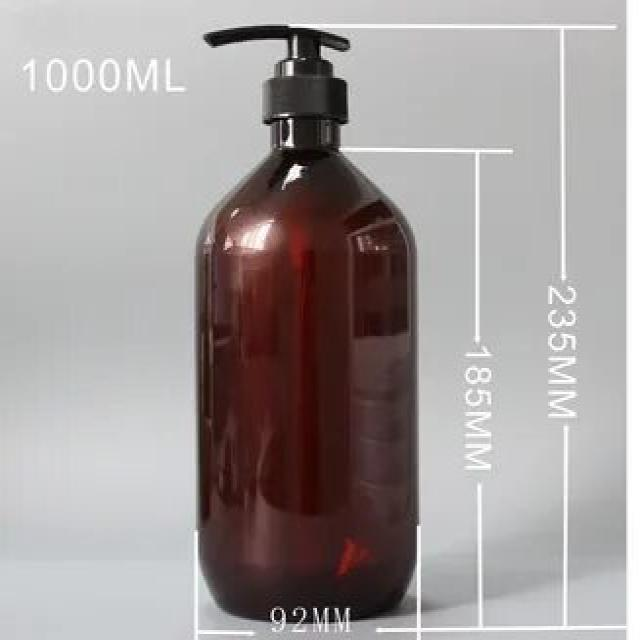brown: (192, 117, 418, 620)
